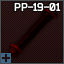PP-19-01 Vityaz-SN gas tube: (0, 0, 64, 64)
